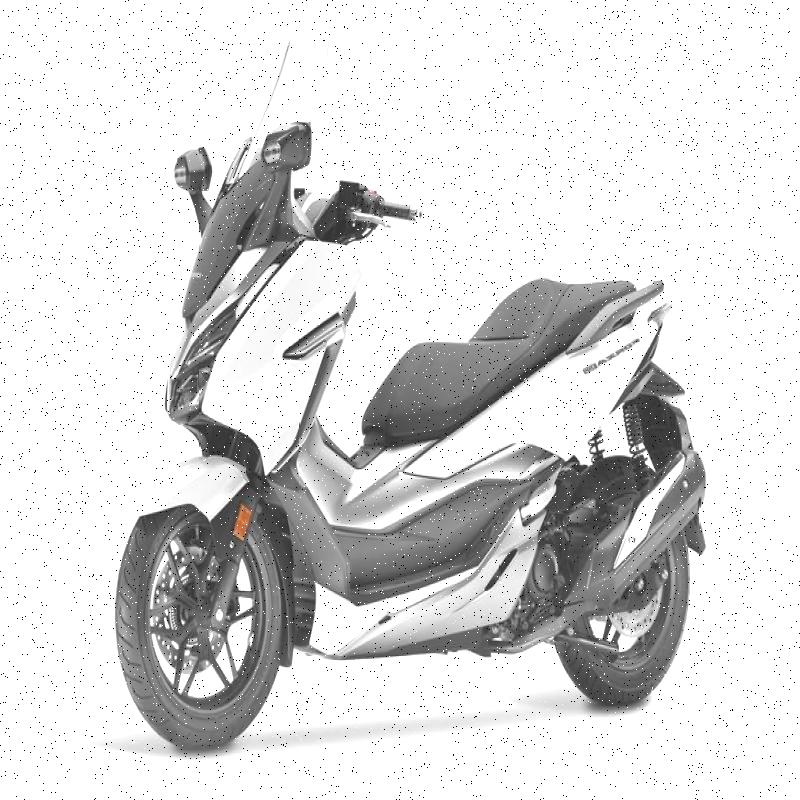bike: (99, 14, 736, 750)
